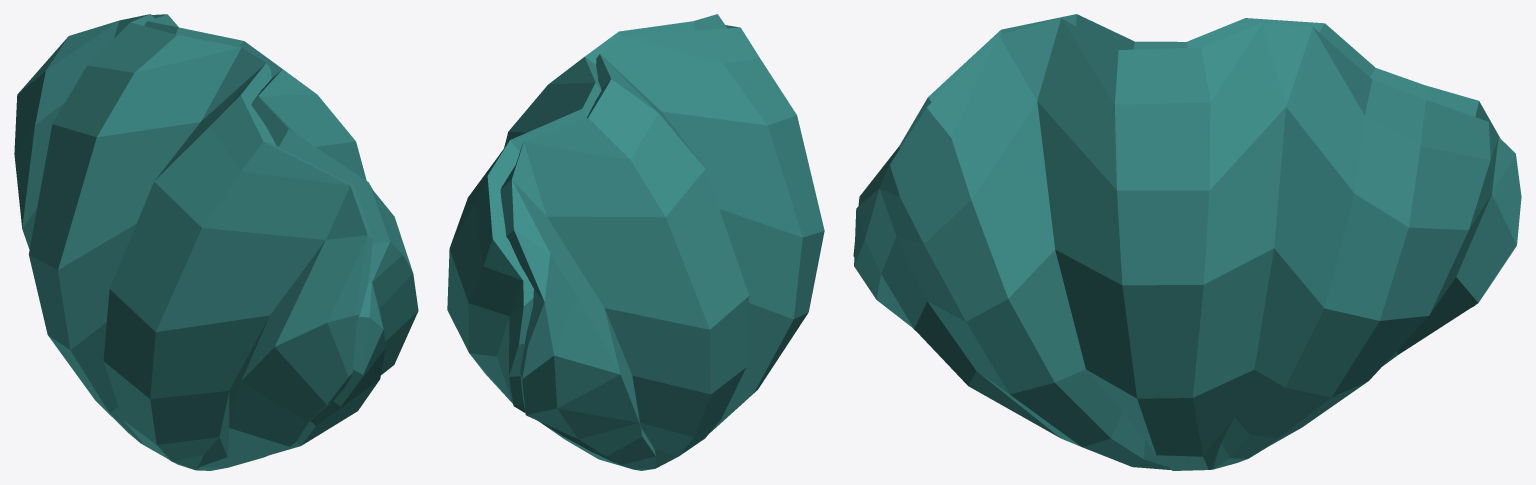
File: SM_Sea_Shell_Giant_Closed_A.fbx
The picture shows the model from 3 angles, left to right: view 1: azimuth 30°, elevation 25°; view 2: azimuth 150°, elevation 25°; view 3: azimuth 270°, elevation 25°; orthographic projection. The views are drawn at different scales.
Parts seen in each view (by area): view 1: sea-shell-giant-closed-a; view 2: sea-shell-giant-closed-a; view 3: sea-shell-giant-closed-a.
Boxes of the visible parts, x1,y1,x2,y2 form: sea-shell-giant-closed-a: [14, 14, 418, 470]; sea-shell-giant-closed-a: [447, 14, 824, 470]; sea-shell-giant-closed-a: [853, 14, 1521, 470].
Bounding box in the file's own units: 0.3925 × 0.5563 × 0.7392.
